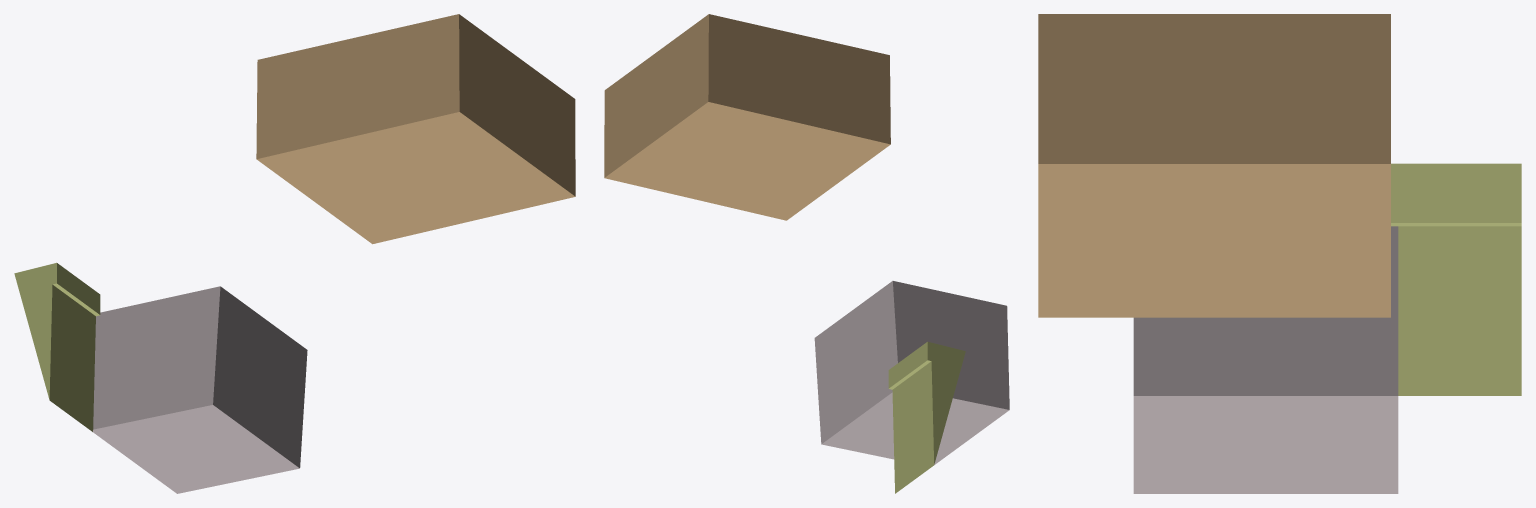
3 views of the same model, side by side, from view 1: azimuth 30°, elevation 25°; view 2: azimuth 150°, elevation 25°; view 3: azimuth 270°, elevation 25° (orthographic). The views are drawn at different scales.
Visible parts, largest first — view 1: 0_0_1_3_2_2_2_2; view 2: 0_0_1_3_2_2_2_2; view 3: 0_0_1_3_2_2_2_2.
Part boxes in pixels (bbox=[...]): 0_0_1_3_2_2_2_2: bbox=[14, 14, 575, 493]; 0_0_1_3_2_2_2_2: bbox=[604, 14, 1009, 493]; 0_0_1_3_2_2_2_2: bbox=[1038, 14, 1521, 493].
Size of the model in its own units: 48.01 by 38.38 by 32.9.
